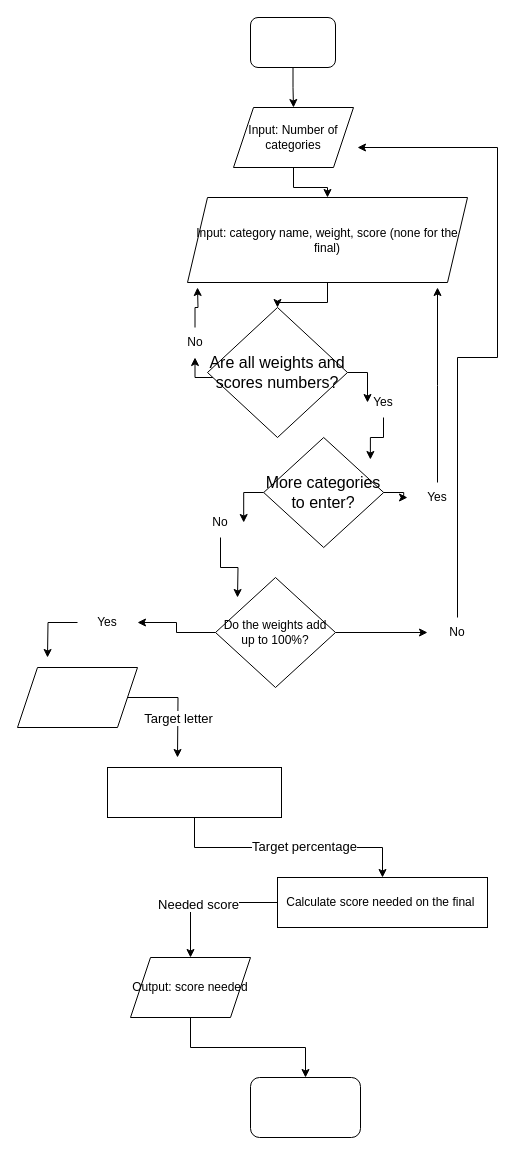
Some shapes in this 523 by 1155 pixel diagram are drawn without their labels. The centre of each missing label's shape, as x and y in pixels:
"Convert letter to percentage" belongs at [194,792].
"End" belongs at [305,1107].
"Input: target letter grade" belongs at [77,697].
"Start" belongs at [293,42].
